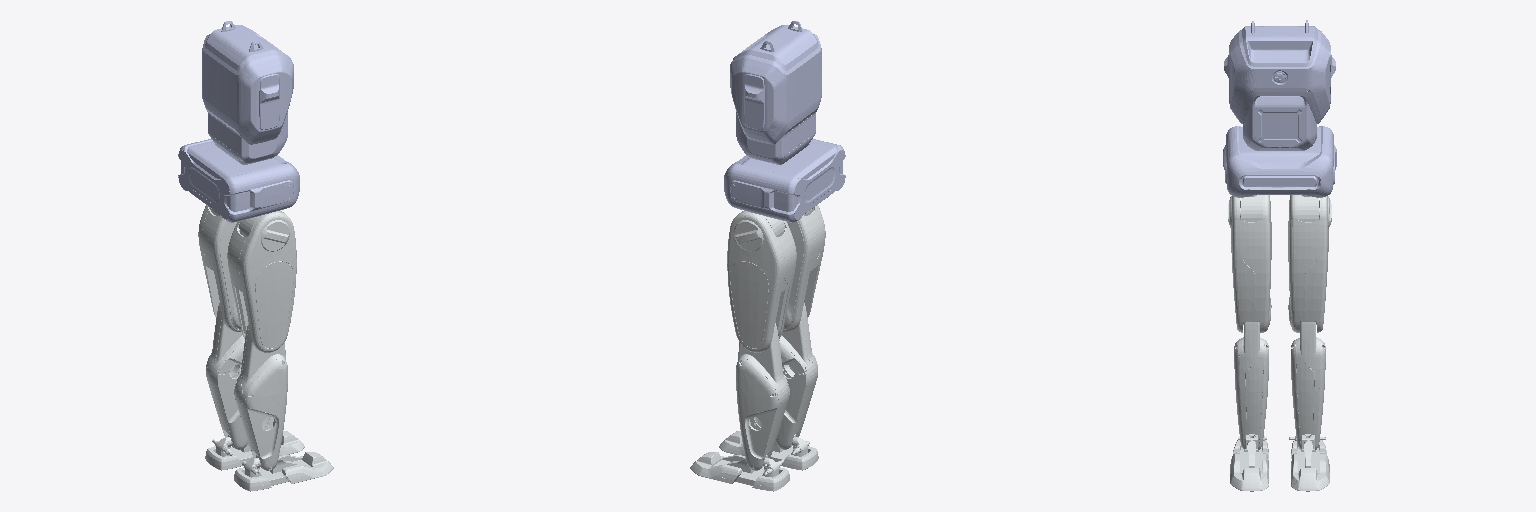
robot.urdf — zp_humanoid:
<?xml version="1.0" encoding="utf-8"?>
<!-- This URDF was automatically created by SolidWorks to URDF Exporter! Originally created by [author] ([email redacted])
     Commit Version: 1.6.0-1-g15f4949  Build Version: 1.6.7594.29634
     For more information, please see http://wiki.ros.org/sw_urdf_exporter -->
<robot name="zp_humanoid">

  <link name="base">
    <inertial>
      <origin  xyz="-0.02535033 0.000294387 0.13619966"   rpy="0 0 0" />
      <mass value="10.0" />
       <inertia
        ixx="0.339706"
        ixy="-0.00011"
        ixz="0.032023"
        iyy="0.313980"
        iyz="0.001392"
        izz="0.132460" />
    </inertial>
    <visual>
    <origin xyz="0 0 0"  rpy="0 0 0" />
      <geometry>
        <mesh  filename="../meshes/base.STL" />
      </geometry>
      <material  name="">
        <color  rgba="0.792156862745098 0.819607843137255 0.933333333333333 1" />
      </material>
    </visual>
    <collision>
<!--      <origin xyz="0 0 0"  rpy="0 0 0" />
      <geometry>
        <mesh  filename="../meshes/base.STL" />
      </geometry>-->
      <origin  xyz="0.01 0 0.25" rpy="0 0 0" />
      <geometry>
        <box size="0.16 0.26 0.3"/>
      </geometry>
    </collision>
  </link>

  <link  name="Y1">
     <inertial>
      <origin xyz="0.0006345 -0.00035651634 -0.00127834"  rpy="0 0 0" />
      <mass  value="10" />
      <inertia
        ixx="0.0018427118"
        ixy="0.0"
        ixz="0.0"
        iyy="0.0023418127"
        iyz="0.0"
        izz="0.0032666149" />
    </inertial>
    <visual>
      <origin  xyz="0 0 0"  rpy="0 0 0" />
      <geometry>
        <mesh  filename="../meshes/Y1.STL" />
      </geometry>
      <material  name="">
        <color  rgba="1 1 1 1" />
      </material>
    </visual>
<!--    <collision>
      <origin  xyz="0 0 0"   rpy="0 0 0" />
      <geometry>
        <mesh
          filename="../meshes/Y1.STL" />
      </geometry>
    </collision>-->
  </link>

  <joint  name="JOINT_Y1"  type="revolute">
    <origin  xyz="0.03923  -0.075  0.003"   rpy="0 0 0" />
    <parent link="base" />
    <child  link="Y1" />
    <axis  xyz="1 0 0" />
    <limit
      lower="-0.523"
      upper="0.523"
      effort="140"
      velocity="25" />
  </joint>

  <link  name="Y2">
     <inertial>
      <origin  xyz="-0.00024818127 -0.0020367166 -0.12006314"  rpy="0 0 0" />
      <mass  value="1.8" />
      <inertia
        ixx="0.00381548638202819"
        ixy="0.0"
        ixz="0.0"
        iyy="0.0044254787"
        iyz="0.0"
        izz="0.0023681727" />
    </inertial>
    <visual>
      <origin  xyz="0 0 0"  rpy="0 0 0" />
      <geometry>
        <mesh   filename="../meshes/Y2.STL" />
      </geometry>
      <material  name="">
        <color  rgba="0.898039215686275 0.917647058823529 0.929411764705882 1" />
      </material>
    </visual>
<!--<collision>
      <origin  xyz="0 0 0"  rpy="0 0 0" />
      <geometry>
        <mesh   filename="../meshes/Y2.STL" />
      </geometry>
    </collision>-->
  </link>

  <joint  name="JOINT_Y2"  type="revolute">
    <origin  xyz="0 0 0"  rpy="0 0 0" />
    <parent  link="Y1" />
    <child link="Y2" />
    <axis  xyz="0 0 1" />
    <limit
      lower="-0.3"
      upper="0.3"
      effort="140"
      velocity="25" />
  </joint>

  <link  name="Y3">
     <inertial>
      <origin  xyz="-0.0017808217 -0.00075989793 -0.14345387"  rpy="0 0 0" />
      <mass  value="3.9" />
      <inertia
        ixx="0.034081811"
        ixy="0."
        ixz="0."
        iyy="0.037772408"
        iyz="0."
        izz="0.010326187" />
    </inertial>
    <visual>
      <origin  xyz="0 0 0"  rpy="0 0 0" />
      <geometry>
        <mesh  filename="../meshes/Y3.STL" />
      </geometry>
      <material  name="">
        <color  rgba="0.898039215686275 0.917647058823529 0.929411764705882 1" />
      </material>
    </visual>
    <collision>
<!--      <origin  xyz="0 0 0"  rpy="0 0 0" />
      <geometry>
        <mesh  filename="../meshes/Y3.STL" />
      </geometry>-->
      <origin  xyz="0 0 -0.12"  rpy="0 0 0" />
      <geometry>
        <box size="0.1 0.1 0.3"/>
      </geometry>
    </collision>
  </link>

  <joint  name="JOINT_Y3"  type="revolute">
    <origin  xyz="0 0 -0.129"  rpy="0 0 0" />
    <parent link="Y2" />
    <child  link="Y3" />
    <axis  xyz="0 -1 0" />
    <limit
      lower="-1.204"
      upper="1.204"
      effort="140"
      velocity="25" />
  </joint>

  <link name="Y4">
     <inertial>
      <origin  xyz="-0.0091506728 0.0002620078 -0.16595646"  rpy="0 0 0" />
      <mass value="3.0938" />
      <inertia
        ixx="0.03451907"
        ixy="0.0"
        ixz="0.0"
        iyy="0.036273669"
        iyz="0.0"
        izz="0.0048516809" />
    </inertial>
    <visual>
      <origin  xyz="0 0 0" rpy="0 0 0" />
      <geometry>
        <mesh   filename="../meshes/Y4.STL" />
      </geometry>
      <material name="">
        <color  rgba="0.898039215686275 0.917647058823529 0.929411764705882 1" />
      </material>
    </visual>
    <collision>
<!--      <origin  xyz="0 0 0" rpy="0 0 0" />
      <geometry>
        <mesh   filename="../meshes/Y4.STL" />
      </geometry>-->
      <origin xyz="0 0 -0.2"  rpy="0 0 0" />
      <geometry>
         <box size="0.05 0.05 0.35"/>
      </geometry>
    </collision>
  </link>

  <joint  name="JOINT_Y4"  type="revolute">
    <origin  xyz="0 -0.00029 -0.3"  rpy="0 0 0" />
    <parent link="Y3" />
    <child link="Y4" />
    <axis xyz="0 -1 0" />
    <limit
      lower="-2.268"
      upper="0"
      effort="140"
      velocity="25" />
  </joint>

  <link name="Y5">
   <inertial>
      <origin  xyz="0 0 0"  rpy="0 0 0" />
      <mass  value="0.1587225" />
      <inertia
        ixx="0.000035301988"
        ixy="0"
        ixz="0"
        iyy="0.000035006921"
        iyz="0"
        izz="0.000039541326" />
    </inertial>
    <visual>
      <origin  xyz="0 0 0"  rpy="0 0 0" />
      <geometry>
        <mesh  filename="../meshes/Y5.STL" />
      </geometry>
      <material  name="">
        <color  rgba="0.89804 0.91765 0.92941 1" />
      </material>
    </visual>
<!--    <collision>
      <origin  xyz="0 0 0"  rpy="0 0 0" />
      <geometry>
        <mesh  filename="../meshes/Y5.STL" />
      </geometry>
    </collision>-->
  </link>

  <joint  name="JOINT_Y5"  type="revolute">
    <origin  xyz="0 0.00029 -0.37"  rpy="0 0 0" />
    <parent  link="Y4" />
    <child  link="Y5" />
    <axis  xyz="0 -1 0" />
    <limit
      lower="-0.6"
      upper="1.0"
      effort="24"
      velocity="31" />
  </joint>

  <link  name="Y6_foot">
    <inertial>
      <origin  xyz="0.027465253 -0.0018083193 -0.034883767"  rpy="0 0 0" />
      <mass  value="1.084513" />
      <inertia
        ixx="0.00096010296"
        ixy="0.0"
        ixz="0.0"
        iyy="0.0053361542"
        iyz="0.0"
        izz="0.0056507356" />
    </inertial>
    <visual>
      <origin xyz="0 0 0"  rpy="0 0 0" />
      <geometry>
        <mesh  filename="../meshes/Y6.STL" />
      </geometry>
      <material name="">
        <color  rgba="0.89804 0.91765 0.92941 1" />
      </material>
    </visual>
    <collision>
<!--      <origin xyz="0 0 0"  rpy="0 0 0" />
      <geometry>
        <mesh  filename="../meshes/Y6.STL" />
      </geometry>-->
      <origin xyz="0.01 0 -0.04" rpy="0 0 0" />
      <geometry>
        <box size="0.16 0.08 0.03"/>
      </geometry>
    </collision>
  </link>

  <joint  name="JOINT_Y6"  type="revolute">
    <origin  xyz="0 0 0"  rpy="0 0 0" />
    <parent link="Y5" />
    <child  link="Y6_foot" />
    <axis  xyz="1 0 0" />
    <limit
      lower="-0.6"
      upper="0.6"
      effort="24"
      velocity="31" />
  </joint>

  <link  name="Z1">
    <inertial>
      <origin xyz="0.0006345 -0.00035651634 -0.00127834"  rpy="0 0 0" />
      <mass  value="1.528" />
      <inertia
        ixx="0.0018427118"
        ixy="0."
        ixz="0."
        iyy="0.0023418127"
        iyz="0."
        izz="0.0032666149" />
    </inertial>
    <visual>
      <origin  xyz="0 0 0"   rpy="0 0 0" />
      <geometry>
        <mesh   filename="../meshes/Z1.STL" />
      </geometry>
      <material name="">
        <color  rgba="0.898039215686275 0.917647058823529 0.929411764705882 1" />
      </material>
    </visual>
 <!--   <collision>
      <origin  xyz="0 0 0"   rpy="0 0 0" />
      <geometry>
        <mesh
          filename="../meshes/Z1.STL" />
      </geometry>
    </collision>-->
  </link>

  <joint name="JOINT_Z1"  type="revolute">
    <origin  xyz="0.03923  0.075  0.003"   rpy="0 0 0" />
    <parent link="base" />
    <child  link="Z1" />
    <axis  xyz="1 0 0" />
    <limit
      lower="-0.523"
      upper="0.523"
      effort="140"
      velocity="25" />
  </joint>

  <link name="Z2">
    <inertial>
      <origin  xyz="0.00024818127 0.0020367166 -0.12006314"  rpy="0 0 0" />
      <mass  value="1.8" />
      <inertia
        ixx="0.00381548638202819"
        ixy="0."
        ixz="0."
        iyy="0.0044254787"
        iyz="0."
        izz="0.0023681727" />
    </inertial>
    <visual>
      <origin  xyz="0 0 0"  rpy="0 0 0" />
      <geometry>
        <mesh  filename="../meshes/Z2.STL" />
      </geometry>
      <material name="">
        <color  rgba="0.898039215686275 0.917647058823529 0.929411764705882 1" />
      </material>
    </visual>
<!--<collision>
      <origin  xyz="0 0 0"  rpy="0 0 0" />
      <geometry>
        <mesh  filename="../meshes/Z2.STL" />
      </geometry>
    </collision>-->
  </link>

  <joint  name="JOINT_Z2"  type="revolute">
    <origin   xyz="0 0 0"  rpy="0 0 0" />
    <parent link="Z1" />
    <child  link="Z2" />
    <axis  xyz="0 0 1" />
    <limit
      lower="-0.3"
      upper="0.3"
      effort="140"
      velocity="25" />
  </joint>

  <link  name="Z3">
    <inertial>
      <origin  xyz="-0.0017808217 0.00075989793 -0.14345387"  rpy="0 0 0" />
      <mass  value="3.9" />
      <inertia
        ixx="0.034081811"
        ixy="0."
        ixz="0."
        iyy="0.037772408"
        iyz="0."
        izz="0.010326187" />
    </inertial>
    <visual>
      <origin  xyz="0 0 0"  rpy="0 0 0" />
      <geometry>
        <mesh   filename="../meshes/Z3.STL" />
      </geometry>
      <material name="">
        <color  rgba="0.898039215686275 0.917647058823529 0.929411764705882 1" />
      </material>
    </visual>
    <collision>
<!--      <origin  xyz="0 0 0"  rpy="0 0 0" />
      <geometry>
        <mesh   filename="../meshes/Z3.STL" />
      </geometry>-->
      <origin  xyz="0 0 -0.12"  rpy="0 0 0" />
      <geometry>
        <box size="0.1 0.1 0.3"/>
      </geometry>
    </collision>
  </link>

  <joint  name="JOINT_Z3"  type="revolute">
    <origin  xyz="0 0 -0.129"   rpy="0 0 0" />
    <parent  link="Z2" />
    <child  link="Z3" />
    <axis  xyz="0 -1 0" />
    <limit
      lower="-1.204"
      upper="1.204"
      effort="140"
      velocity="25" />
  </joint>

  <link  name="Z4">
    <inertial>
      <origin  xyz="-0.0091506728 -0.0002620078 -0.16595646"  rpy="0 0 0" />
      <mass value="3.0938" />
      <inertia
        ixx="0.03451907"
        ixy="0."
        ixz="0."
        iyy="0.036273669"
        iyz="0."
        izz="0.0048516809" />
    </inertial>
    <visual>
      <origin  xyz="0 0 0"  rpy="0 0 0" />
      <geometry>
        <mesh   filename="../meshes/Z4.STL" />
      </geometry>
      <material name="">
        <color rgba="0.89804 0.91765 0.92941 1" />
      </material>
    </visual>
    <collision>
<!--      <origin  xyz="0 0 0"  rpy="0 0 0" />
      <geometry>
        <mesh   filename="../meshes/Z4.STL" />
      </geometry>-->
      <origin xyz="0 0 -0.2"  rpy="0 0 0" />
      <geometry>
         <box size="0.05 0.05 0.35"/>
      </geometry>
    </collision>
  </link>

  <joint name="JOINT_Z4"  type="revolute">
    <origin  xyz="0 0.00029 -0.3"  rpy="0 0 0" />
    <parent  link="Z3" />
    <child  link="Z4" />
    <axis  xyz="0 -1 0" />
    <limit
      lower="-2.268"
      upper="0"
      effort="140"
      velocity="25" />
  </joint>

  <link  name="Z5">
    <inertial>
      <origin  xyz="0 0 0"  rpy="0 0 0" />
      <mass  value="0.1587225" />
      <inertia
        ixx="0.000035301988"
        ixy="0"
        ixz="0"
        iyy="0.000035006921"
        iyz="0"
        izz="0.000039541326" />
    </inertial>
    <visual>
      <origin  xyz="0 0 0"   rpy="0 0 0" />
      <geometry>
        <mesh  filename="../meshes/Z5.STL" />
      </geometry>
      <material  name="">
        <color  rgba="0.89804 0.91765 0.92941 1" />
      </material>
    </visual>
<!--<collision>
      <origin  xyz="0 0 0"   rpy="0 0 0" />
      <geometry>
        <mesh  filename="../meshes/Z5.STL" />
      </geometry>
    </collision>-->
  </link>

  <joint name="JOINT_Z5"  type="revolute">
    <origin  xyz="0 -0.00029 -0.37"  rpy="0 0 0" />
    <parent  link="Z4" />
    <child  link="Z5" />
    <axis  xyz="0 -1 0" />
    <limit
      lower="-0.6"
      upper="1.0"
      effort="24"
      velocity="31" />
  </joint>

  <link  name="Z6_foot">
    <inertial>
      <origin  xyz="0.027465253 0.0018083193 -0.034883767"  rpy="0 0 0" />
      <mass  value="1.084513" />
      <inertia
        ixx="0.00096010296"
        ixy="0."
        ixz="0."
        iyy="0.0053361542"
        iyz="0."
        izz="0.0056507356" />
    </inertial>
    <visual>
      <origin  xyz="0 0 0"  rpy="0 0 0" />
      <geometry>
        <mesh filename="../meshes/Z6.STL" />
      </geometry>
      <material  name="">
        <color   rgba="0.89804 0.91765 0.92941 1" />
      </material>
    </visual>
    <collision>
<!--      <origin  xyz="0 0 0"  rpy="0 0 0" />
      <geometry>
        <mesh filename="../meshes/Z6.STL" />
      </geometry>-->
      <origin xyz="0.01 0 -0.04" rpy="0 0 0" />
      <geometry>
        <box size="0.16 0.08 0.03"/>
      </geometry>
    </collision>
  </link>

  <joint name="JOINT_Z6"  type="revolute">
    <origin  xyz="0 0 0"  rpy="0 0 0" />
    <parent  link="Z5" />
    <child  link="Z6_foot" />
    <axis  xyz="1 0 0" />
    <limit
      lower="-0.6"
      upper="0.6"
      effort="24"
      velocity="31" />
  </joint>

</robot>

--- Facts derived from the render (not from the file) ---
The picture shows the robot from 3 angles, left to right: view 1: azimuth 30°, elevation 25°; view 2: azimuth 150°, elevation 25°; view 3: azimuth 270°, elevation 25°; orthographic projection.
Robot: zp_humanoid — 13 links, 12 joints (12 revolute); root link base; default pose: every joint at zero.
Links seen in each view (by area): view 1: base, Y3, Y4, Z4, Z3, Y6_foot, Z6_foot; view 2: base, Z3, Z4, Y4, Y3, Z6_foot, Y6_foot; view 3: base, Z3, Y3, Y4, Z4, Z6_foot, Y6_foot, Z2, Y2.
Link boxes in pixels (left/top/right/bottom): base: left=178, top=21, right=299, bottom=222; Y3: left=227, top=211, right=296, bottom=352; Y4: left=234, top=323, right=287, bottom=470; Z4: left=206, top=303, right=247, bottom=449; Z3: left=198, top=205, right=240, bottom=331; Y6_foot: left=234, top=452, right=333, bottom=491; Z6_foot: left=205, top=431, right=304, bottom=470; base: left=724, top=21, right=845, bottom=222; Z3: left=727, top=211, right=796, bottom=352; Z4: left=736, top=323, right=789, bottom=470; Y4: left=776, top=303, right=817, bottom=449; Y3: left=783, top=205, right=825, bottom=331; Z6_foot: left=690, top=452, right=789, bottom=491; Y6_foot: left=719, top=431, right=818, bottom=470; base: left=1223, top=20, right=1336, bottom=197; Z3: left=1288, top=195, right=1331, bottom=332; Y3: left=1228, top=195, right=1271, bottom=332; Y4: left=1234, top=321, right=1268, bottom=449; Z4: left=1291, top=321, right=1325, bottom=449; Z6_foot: left=1289, top=436, right=1329, bottom=491; Y6_foot: left=1230, top=436, right=1268, bottom=491; Z2: left=1297, top=195, right=1318, bottom=221; Y2: left=1241, top=195, right=1262, bottom=221.
Bounding box of the posed robot: 0.3354 × 0.3013 × 1.27 m (x, y, z).
13 mesh visuals loaded from 13 distinct referenced files (13 binary STL).
